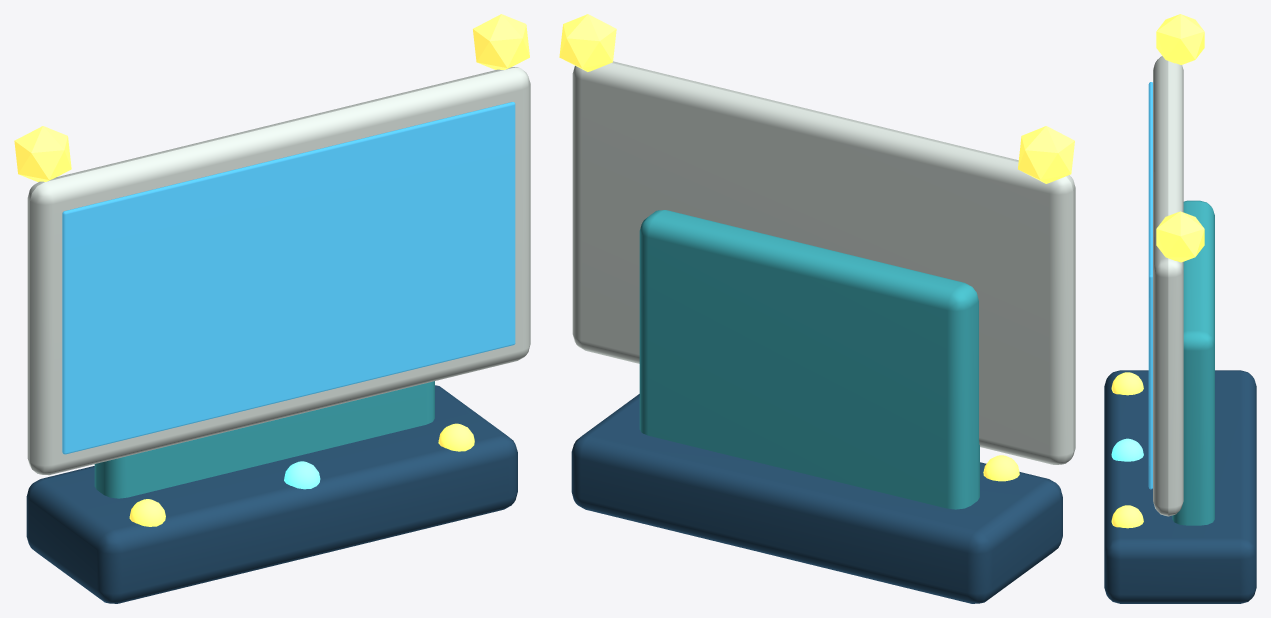
Rendered from terminal.glb.
The picture shows the model from 3 angles, left to right: view 1: azimuth 30°, elevation 25°; view 2: azimuth 150°, elevation 25°; view 3: azimuth 270°, elevation 25°; orthographic projection. The views are drawn at different scales.
Visible parts, largest first — view 1: ConsoleDisplay, ConsoleBase, ConsoleFrame, ConsoleStem, ConsoleCrystal_-2.3, ConsoleCrystal_2.3, ConsoleButton_1.55, ConsoleButton_0, ConsoleButton_-1.55; view 2: ConsoleFrame, ConsoleStem, ConsoleBase, ConsoleCrystal_2.3, ConsoleCrystal_-2.3, ConsoleButton_-1.55; view 3: ConsoleBase, ConsoleFrame, ConsoleStem, ConsoleDisplay, ConsoleCrystal_-2.3, ConsoleCrystal_2.3, ConsoleButton_0, ConsoleButton_1.55, ConsoleButton_-1.55.
Boxes of the visible parts, <box> form: ConsoleDisplay: <box>62,102,515,454</box>; ConsoleBase: <box>26,385,517,603</box>; ConsoleFrame: <box>27,67,530,475</box>; ConsoleStem: <box>94,381,434,498</box>; ConsoleCrystal_-2.3: <box>14,126,71,182</box>; ConsoleCrystal_2.3: <box>473,14,529,69</box>; ConsoleButton_1.55: <box>438,423,474,451</box>; ConsoleButton_0: <box>284,461,320,489</box>; ConsoleButton_-1.55: <box>129,499,165,526</box>; ConsoleFrame: <box>572,61,1075,464</box>; ConsoleStem: <box>639,210,979,509</box>; ConsoleBase: <box>571,394,1062,603</box>; ConsoleCrystal_2.3: <box>559,14,616,71</box>; ConsoleCrystal_-2.3: <box>1018,126,1074,183</box>; ConsoleButton_-1.55: <box>983,455,1019,481</box>; ConsoleBase: <box>1104,370,1256,603</box>; ConsoleFrame: <box>1153,56,1183,516</box>; ConsoleStem: <box>1172,200,1214,525</box>; ConsoleDisplay: <box>1148,82,1152,489</box>; ConsoleCrystal_-2.3: <box>1156,14,1204,64</box>; ConsoleCrystal_2.3: <box>1156,211,1204,262</box>; ConsoleButton_0: <box>1111,438,1143,461</box>; ConsoleButton_1.55: <box>1111,505,1143,528</box>; ConsoleButton_-1.55: <box>1111,372,1143,395</box>.
Size of the model in its own units: 5.1 by 4.42 by 1.5.
